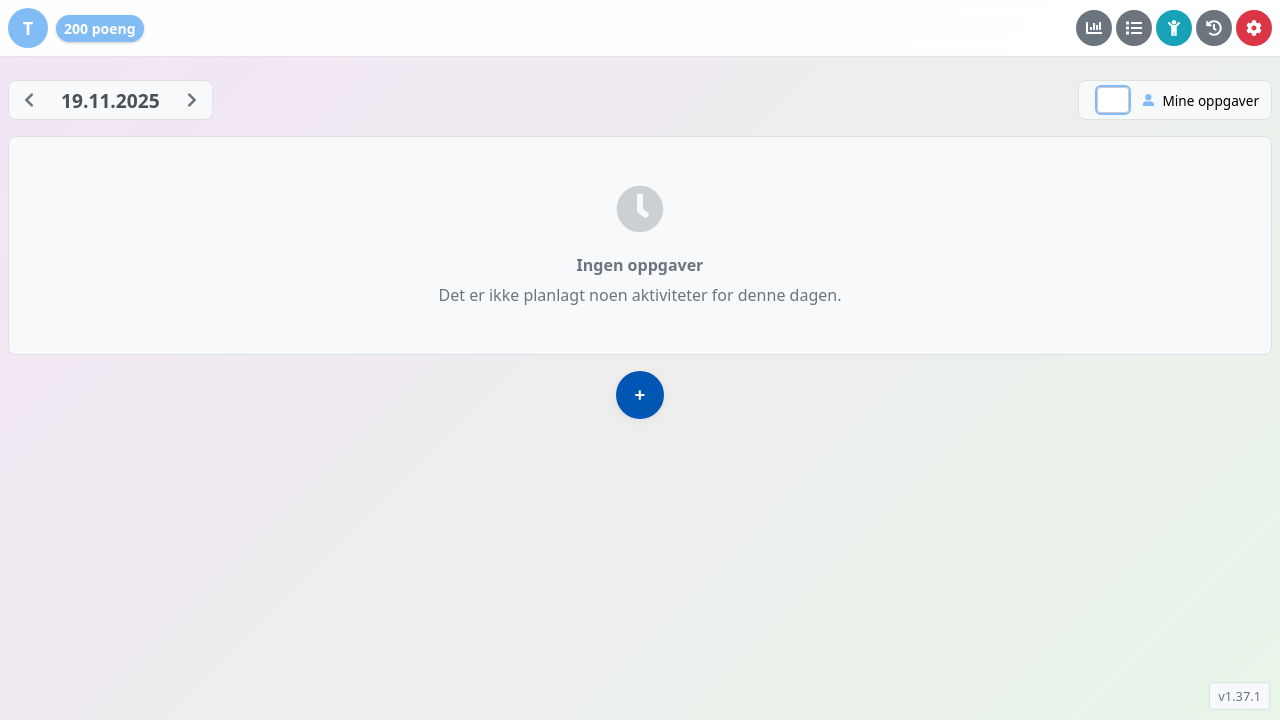
it: Avatar to ProfileSelector Integration › should complete the full flow: click avatar → open ProfileSelector → see family members
// Click avatar to open ProfileSelector
What coordinates should you click on to do the following:
click the button titled "Åpne profil og innstillinger"
I would click on:
 (28, 28)
Its box is 8,8 -> 48,48.
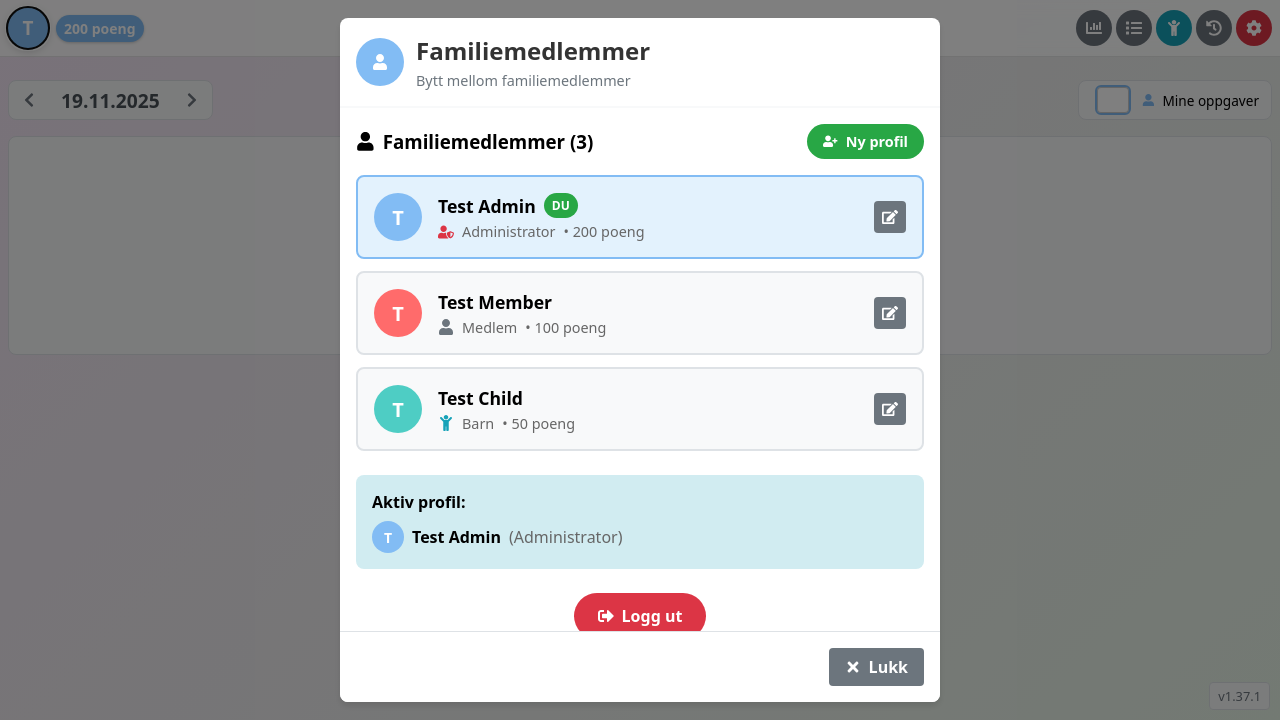
Now the heading "Familiemedlemmer (3)" is shown, box 356,129 -> 593,154
Now the text "Test Admin" next to "DU" is shown, box 438,194 -> 536,218
Now the text "Test Member" is shown, box 438,290 -> 552,314
